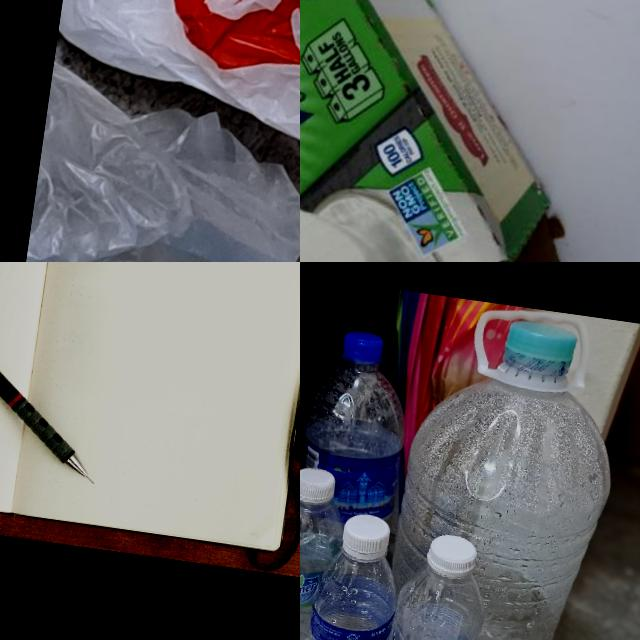garrafa plástica: (371, 341, 626, 640), (300, 350, 416, 539), (370, 560, 488, 640), (300, 549, 399, 640), (300, 493, 345, 640)
papel: (0, 262, 300, 553)
papelão: (300, 0, 629, 262)
sacola plástica: (21, 58, 300, 262), (41, 0, 300, 217)
tampa plástica: (503, 316, 579, 364), (339, 511, 392, 556), (426, 532, 479, 576), (341, 329, 386, 362), (300, 465, 337, 505)
